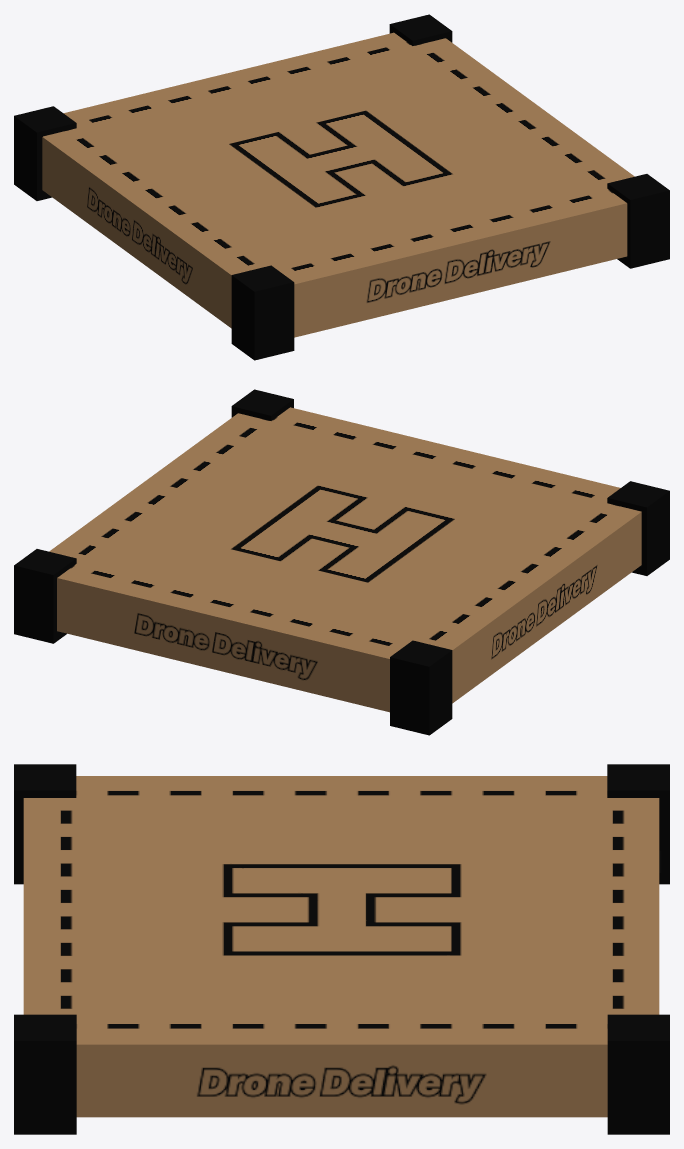
The model's file is Pizza.fbx.
3 renders of one model, top to bottom at view 1: azimuth 30°, elevation 25°; view 2: azimuth 150°, elevation 25°; view 3: azimuth 270°, elevation 25°, orthographic. The views are drawn at different scales.
Parts seen in each view (by area): view 1: Cube.003, Cube.007; view 2: Cube.003, Cube.007; view 3: Cube.003, Cube.007.
Part boxes in pixels (left/top/right/bottom): Cube.003: left=42, top=32, right=634, bottom=337; Cube.007: left=14, top=14, right=669, bottom=360; Cube.003: left=49, top=407, right=641, bottom=712; Cube.007: left=14, top=389, right=669, bottom=735; Cube.003: left=23, top=776, right=659, bottom=1117; Cube.007: left=14, top=764, right=669, bottom=1134.
Size of the model in its own units: 215 by 33.91 by 215.
